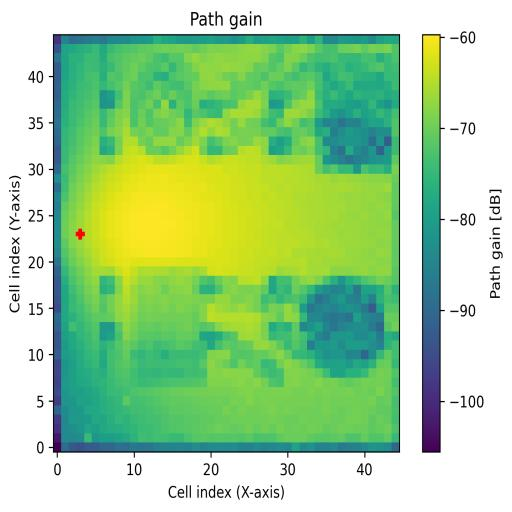Concrete: (315, 61, 392, 175)
Glass: (131, 54, 199, 155)
Metal: (299, 275, 384, 378)
Wood: (130, 266, 208, 386)
